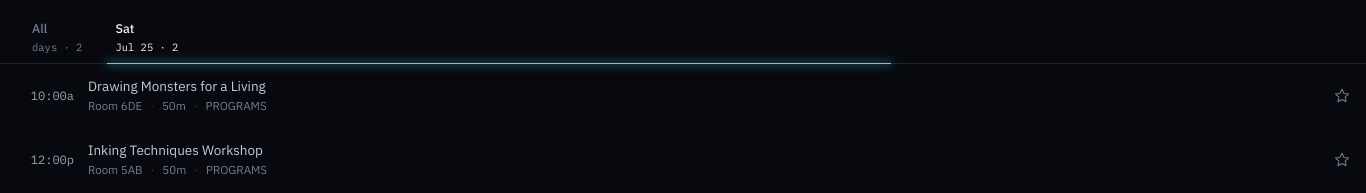
Test: the card over the list (AE6) › opens on a row click, naming the event and showing its prose
Expected: the text "Drawing Monsters for a Living" is shown, [88, 78, 266, 95]
Click the button that starts with "10:00a".
click(52, 96)  # box [31, 77, 1354, 113]
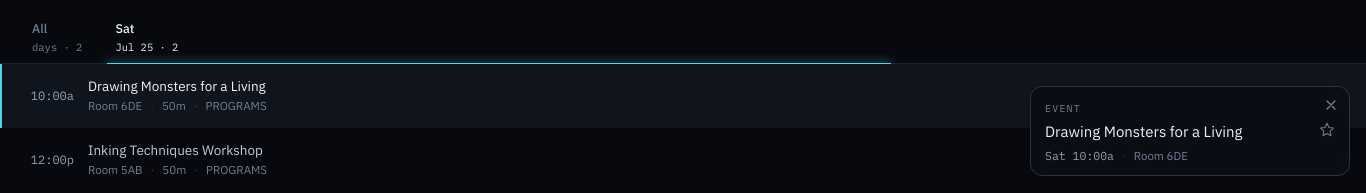
Expected: the element showing "EVENT Drawing Monsters for a Living Sat 10:00a · Room 6DE" is shown, [1030, 86, 1350, 176]
Expected: the heading "Drawing Monsters for a Living" is shown, [1045, 122, 1242, 141]
Expected: the text "Room 6DE" next to "Sat 10:00a" is shown, [1134, 148, 1188, 163]
